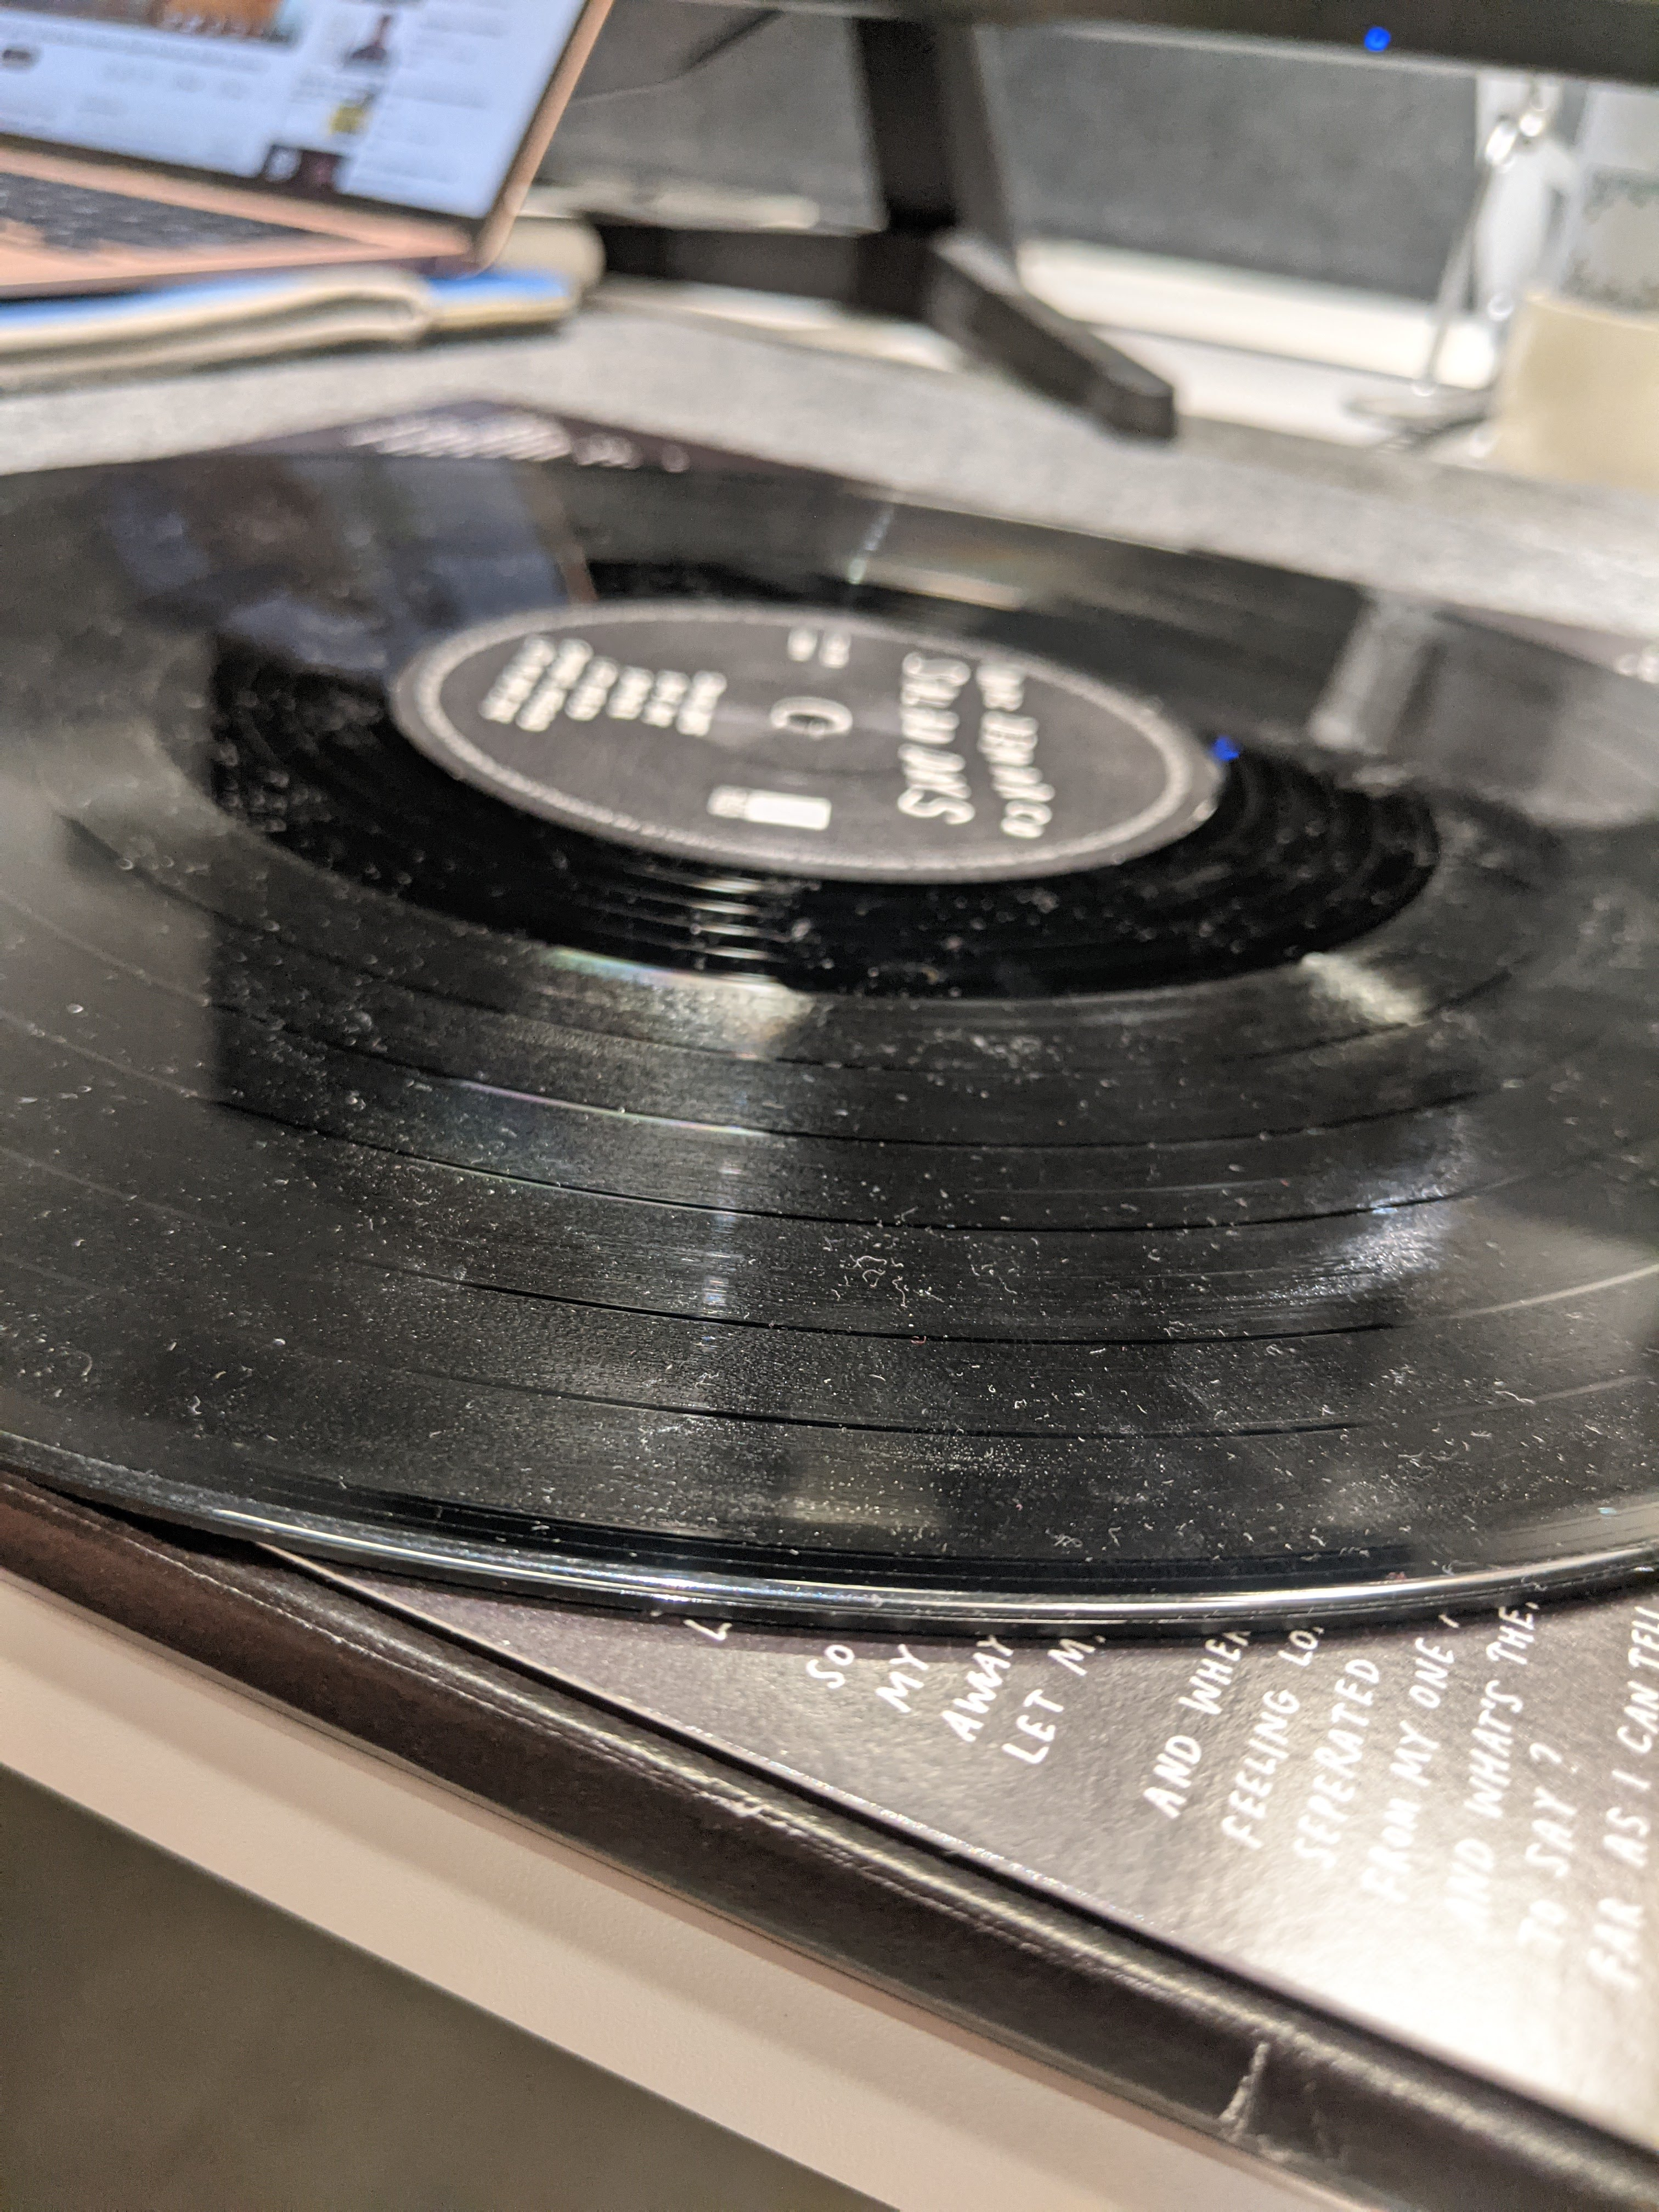song_edge: (650, 1360, 983, 1494), (532, 1242, 756, 1367), (791, 1167, 967, 1277), (526, 1050, 681, 1162), (760, 1008, 918, 1113)
